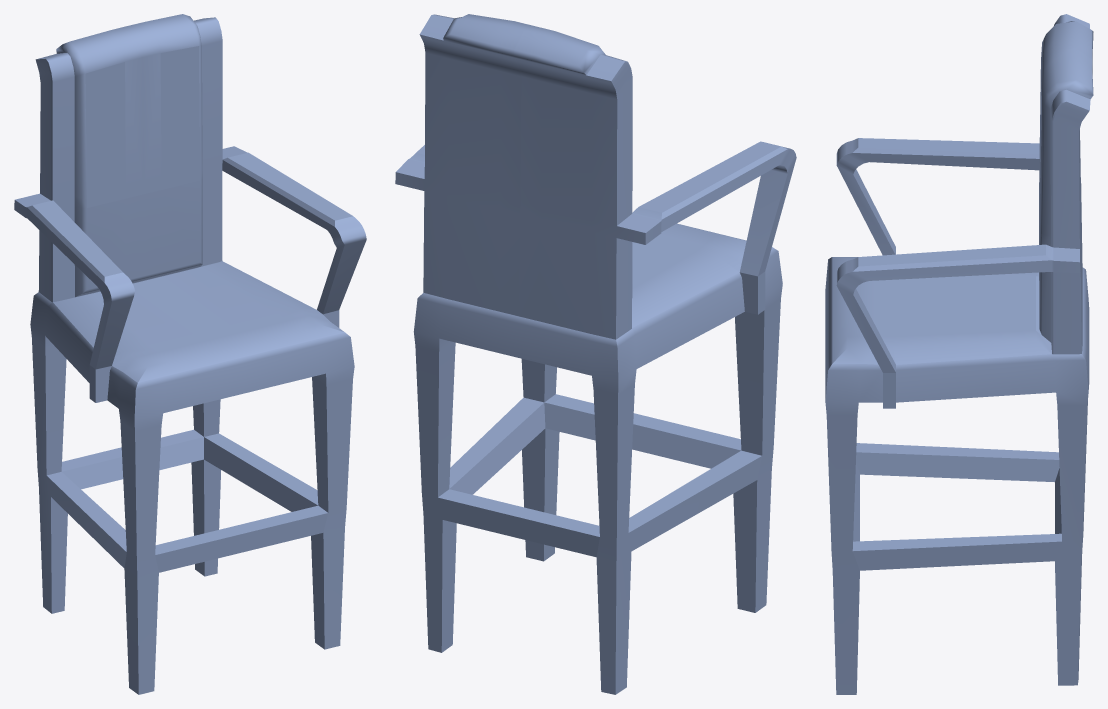
The model's file is PokerChairs01.fbx.
The picture shows the model from 3 angles, left to right: view 1: azimuth 30°, elevation 25°; view 2: azimuth 150°, elevation 25°; view 3: azimuth 270°, elevation 25°; orthographic projection. The views are drawn at different scales.
Visible parts, largest first — view 1: PokerChairs01_Chair2; view 2: PokerChairs01_Chair2; view 3: PokerChairs01_Chair2.
Part boxes in pixels (left/top/right/bottom): PokerChairs01_Chair2: left=14, top=14, right=366, bottom=694; PokerChairs01_Chair2: left=395, top=14, right=796, bottom=694; PokerChairs01_Chair2: left=825, top=14, right=1093, bottom=694.
Size of the model in its own units: 62.32 by 131 by 53.61.
